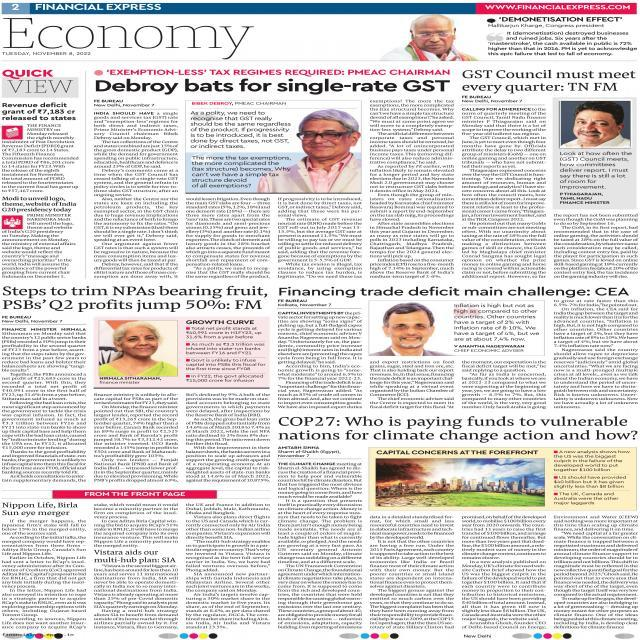Article: (86, 67, 458, 279), (279, 413, 640, 627), (1, 284, 274, 483), (275, 285, 639, 414), (456, 67, 640, 280), (1, 500, 273, 632), (1, 98, 84, 196), (1, 194, 81, 281)
Body: (368, 98, 456, 280), (459, 106, 548, 279), (92, 110, 180, 280), (276, 461, 364, 629), (0, 327, 89, 482), (185, 502, 272, 629), (368, 514, 456, 630), (552, 514, 640, 630), (461, 514, 548, 630), (0, 518, 89, 630), (552, 298, 640, 409), (276, 310, 364, 410), (184, 392, 272, 483), (92, 392, 180, 482), (185, 196, 272, 279), (277, 196, 364, 278), (0, 122, 82, 194), (551, 213, 640, 279), (92, 564, 180, 630), (0, 213, 77, 280), (368, 360, 456, 410), (460, 360, 548, 410), (92, 502, 180, 548), (552, 449, 632, 472), (552, 474, 628, 490), (185, 358, 266, 372), (186, 342, 266, 356), (185, 326, 263, 340), (552, 492, 620, 505), (185, 374, 265, 384)
Date: (1, 51, 93, 58)
Heading: (277, 415, 640, 443), (2, 285, 270, 313), (91, 77, 452, 96), (277, 285, 632, 298), (0, 101, 79, 122), (1, 500, 78, 518), (92, 548, 178, 564)
Highlights: (485, 15, 640, 57), (460, 68, 637, 95), (190, 110, 292, 150), (190, 154, 292, 190), (453, 302, 542, 342), (558, 150, 633, 190), (0, 195, 78, 213)
Image: (376, 458, 544, 506), (294, 109, 361, 192), (379, 14, 480, 61), (369, 300, 452, 356), (98, 321, 178, 376), (561, 101, 630, 148)
Name: (0, 15, 257, 49), (33, 2, 164, 12)
